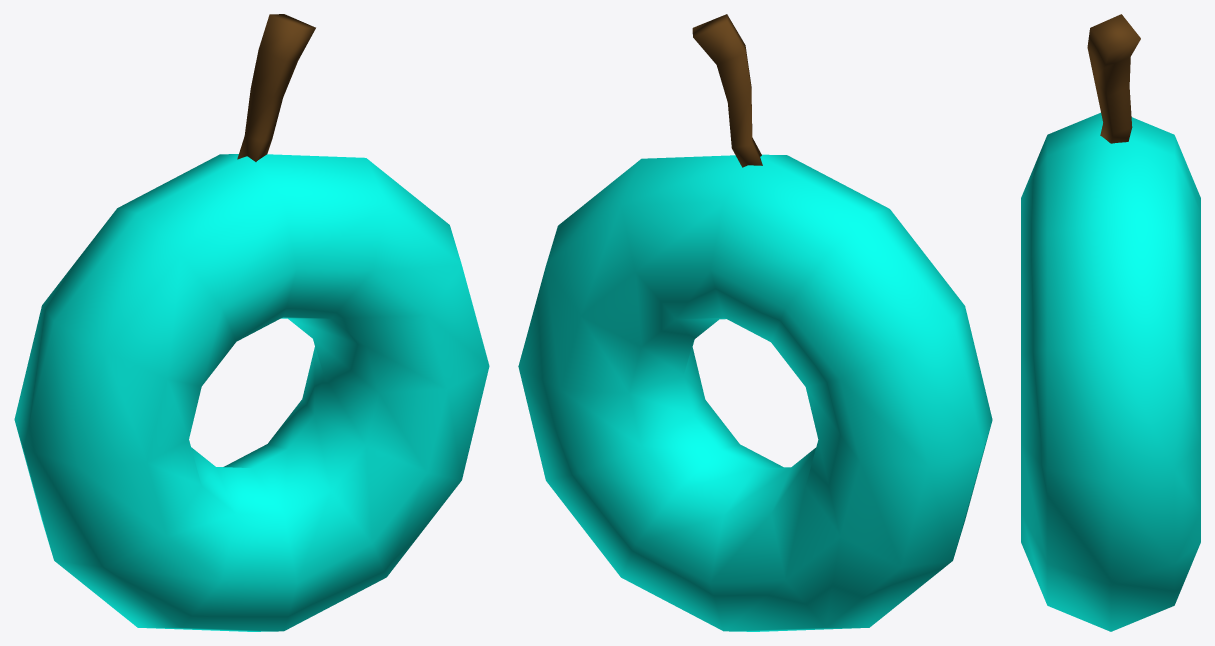
The model's file is Special.fbx.
3 views of the same model, side by side, from view 1: azimuth 30°, elevation 25°; view 2: azimuth 150°, elevation 25°; view 3: azimuth 270°, elevation 25° (orthographic).
Visible parts, largest first — view 1: Special; view 2: Special; view 3: Special.
Part boxes in pixels (<box>): Special: <box>14,14,489,631</box>; Special: <box>518,14,992,631</box>; Special: <box>1021,14,1200,631</box>.
Size of the model in its own units: 53.81 by 68.41 by 18.43.
